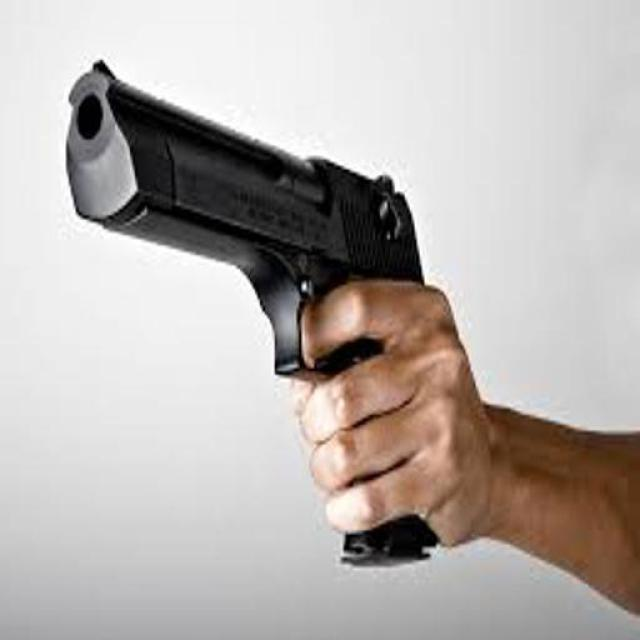pistol: (64, 56, 453, 562)
